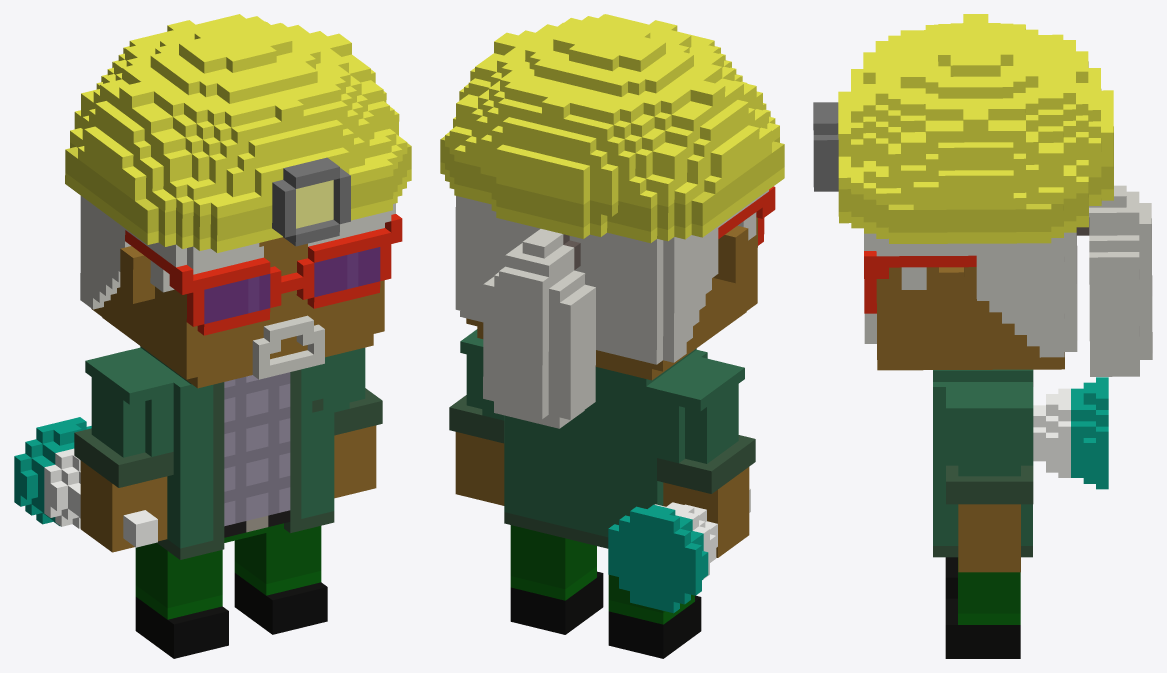
3 renders of one model, left to right at view 1: azimuth 30°, elevation 25°; view 2: azimuth 150°, elevation 25°; view 3: azimuth 270°, elevation 25°, orthographic.
Parts seen in each view (by area): view 1: vox-1, vox-10, vox-9, vox-5, vox-2, vox-7, vox-6, vox-4, vox-0, vox-8, vox-3; view 2: vox-1, vox-0, vox-10, vox-5, vox-4, vox-6, vox-8, vox-9, vox-7, vox-2; view 3: vox-1, vox-0, vox-8, vox-9, vox-4, vox-6, vox-10, vox-2, vox-7.
Part boxes in pixels (x1,y1,x2,y2): vox-1: [65, 14, 411, 253]; vox-10: [129, 346, 334, 559]; vox-9: [91, 223, 384, 388]; vox-5: [74, 350, 173, 552]; vox-2: [125, 214, 402, 335]; vox-7: [135, 542, 228, 658]; vox-6: [234, 526, 327, 634]; vox-4: [14, 417, 157, 547]; vox-0: [80, 196, 395, 309]; vox-8: [334, 347, 382, 498]; vox-3: [252, 315, 324, 379]; vox-1: [440, 14, 784, 243]; vox-0: [455, 190, 768, 428]; vox-10: [504, 348, 707, 548]; vox-5: [657, 357, 755, 557]; vox-4: [608, 488, 750, 613]; vox-6: [510, 525, 603, 634]; vox-8: [449, 329, 504, 505]; vox-9: [466, 217, 757, 380]; vox-7: [608, 574, 701, 658]; vox-2: [718, 186, 775, 245]; vox-1: [813, 14, 1113, 243]; vox-0: [864, 185, 1152, 376]; vox-8: [946, 387, 1033, 572]; vox-9: [876, 267, 1064, 370]; vox-4: [1033, 377, 1108, 489]; vox-6: [945, 557, 1020, 658]; vox-10: [933, 369, 1032, 557]; vox-2: [864, 251, 976, 313]; vox-7: [945, 557, 957, 598].
Bounding box in the file's own units: 2.6 × 5.1 × 2.71.
11 materials, 11 textured.
